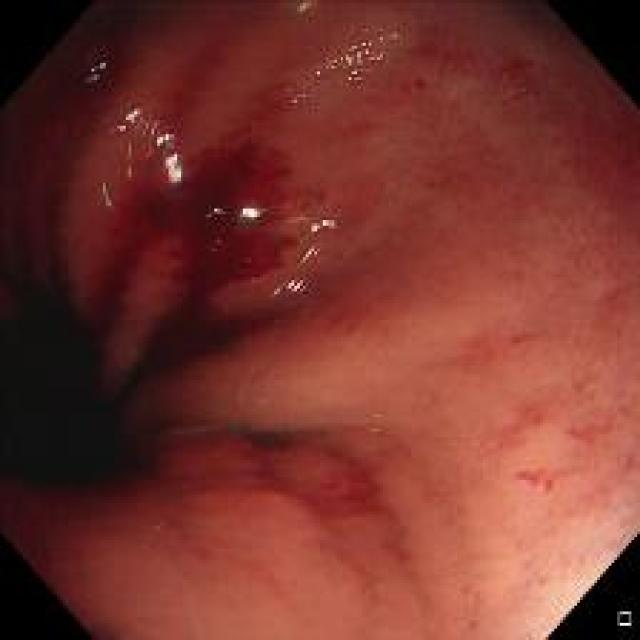blood: (164, 420, 449, 561), (145, 134, 292, 359)
color misalignment: (291, 29, 406, 111), (271, 241, 322, 299), (506, 74, 539, 116), (81, 59, 110, 84), (236, 199, 268, 221), (159, 149, 180, 182), (291, 1, 321, 20), (100, 179, 116, 211), (204, 202, 228, 221)
contrast: (4, 238, 195, 524)
specularity: (109, 102, 190, 202), (284, 210, 336, 239), (234, 196, 268, 229)
